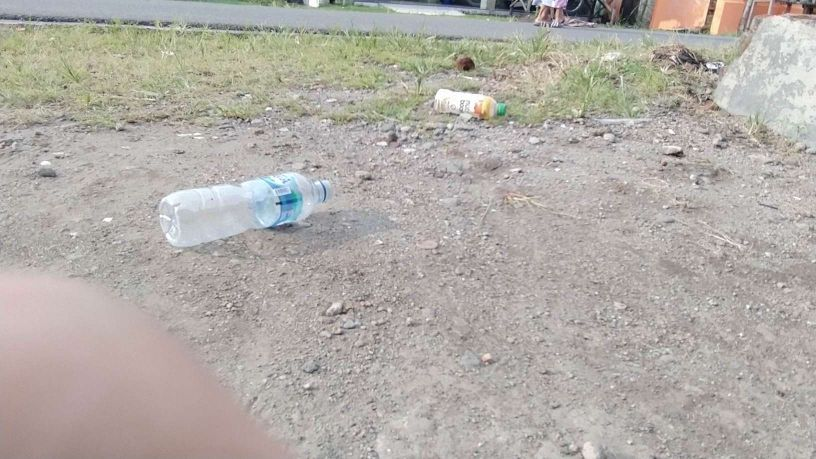botol: (151, 164, 342, 243), (428, 72, 511, 127)
